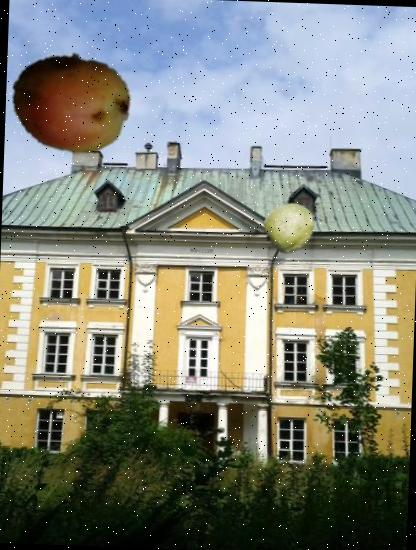Limes: (262, 200, 318, 256)
Papaya: (9, 41, 132, 164)
